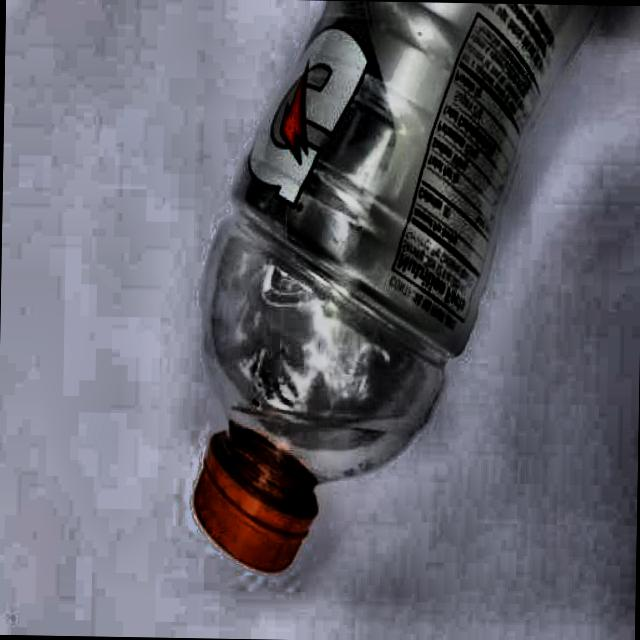plastic bottle: (194, 1, 602, 572)
